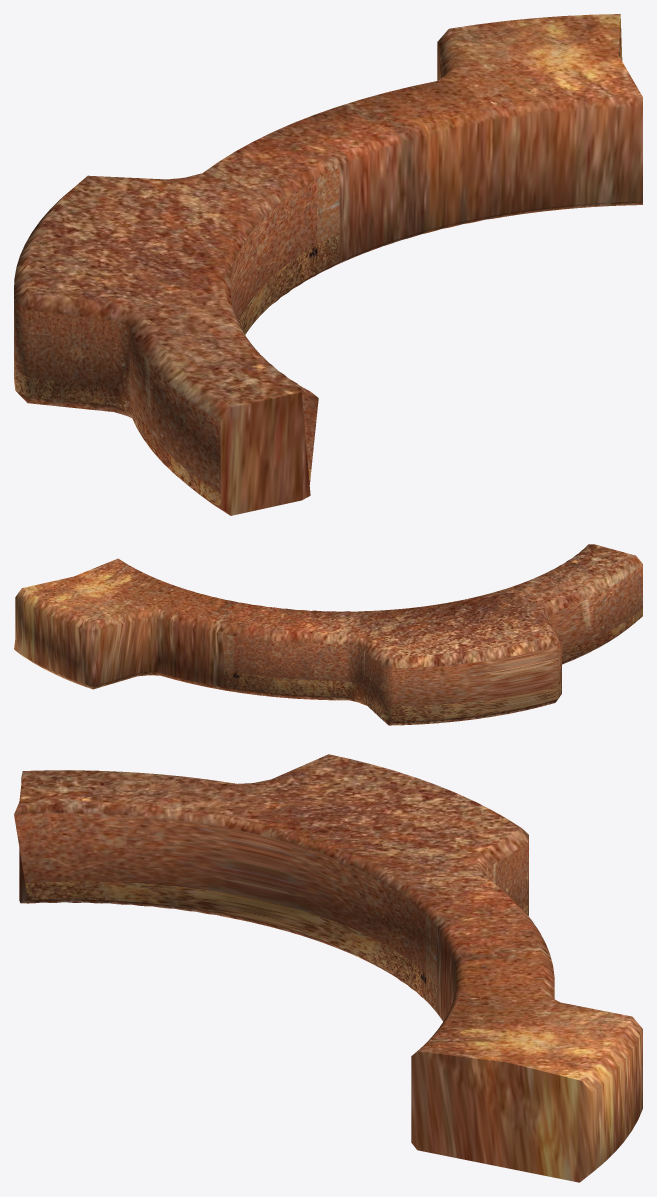
File: 割れた歯車5Ａ 破片4.fbx
3 views of the same model, one above another, from view 1: azimuth 30°, elevation 25°; view 2: azimuth 150°, elevation 25°; view 3: azimuth 270°, elevation 25° (orthographic). The views are drawn at different scales.
Parts seen in each view (by area): view 1: obj2; view 2: obj2; view 3: obj2.
Boxes of the visible parts, bbox=[...] form: obj2: bbox=[14, 14, 642, 515]; obj2: bbox=[14, 544, 642, 725]; obj2: bbox=[14, 754, 642, 1182].
Size of the model in its own units: 157 by 22.03 by 125.
Materials: 1 (1 with a texture image).
